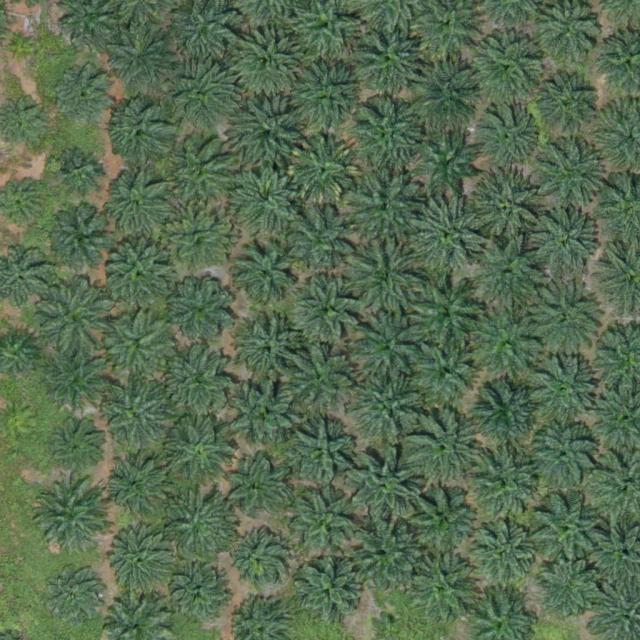Healthy: (466, 168, 544, 247), (471, 237, 549, 316), (406, 197, 484, 276), (408, 53, 486, 132), (348, 19, 426, 98), (348, 94, 426, 173), (347, 169, 425, 248), (341, 241, 419, 320), (34, 277, 112, 356), (30, 477, 108, 556), (286, 486, 364, 565), (351, 308, 429, 387), (349, 367, 427, 446), (346, 451, 424, 530), (346, 523, 424, 602), (407, 270, 485, 349), (409, 332, 487, 411), (407, 407, 485, 486), (401, 478, 479, 557), (464, 304, 542, 383), (523, 356, 601, 435), (525, 279, 603, 358), (526, 493, 604, 572), (163, 487, 241, 565), (164, 415, 235, 486), (464, 516, 535, 587), (527, 206, 597, 277), (293, 59, 363, 130), (289, 207, 359, 278), (231, 240, 301, 311), (235, 99, 305, 170), (232, 29, 302, 100), (165, 137, 235, 208), (161, 204, 232, 274), (106, 242, 177, 312), (100, 169, 170, 240), (106, 97, 177, 167), (109, 23, 180, 93), (294, 275, 364, 346), (167, 273, 238, 343), (105, 314, 175, 385), (43, 346, 113, 417), (102, 381, 172, 452), (164, 345, 235, 415), (225, 377, 296, 447), (284, 346, 354, 417), (472, 450, 542, 521), (474, 379, 544, 450), (535, 555, 605, 626), (537, 140, 607, 210), (473, 37, 543, 107), (231, 163, 301, 233), (167, 59, 237, 129), (235, 317, 305, 387), (104, 527, 174, 597), (286, 417, 356, 487), (297, 558, 367, 628), (409, 558, 479, 628), (530, 423, 600, 493), (537, 74, 600, 137), (107, 457, 170, 520), (478, 105, 540, 168), (417, 130, 479, 193), (55, 66, 117, 129), (50, 210, 112, 273), (43, 564, 105, 627), (169, 564, 231, 627), (225, 457, 287, 520), (226, 530, 288, 593), (50, 418, 105, 473), (57, 150, 104, 197)
Small: (16, 35, 40, 59)
Yellow: (289, 135, 359, 205)
